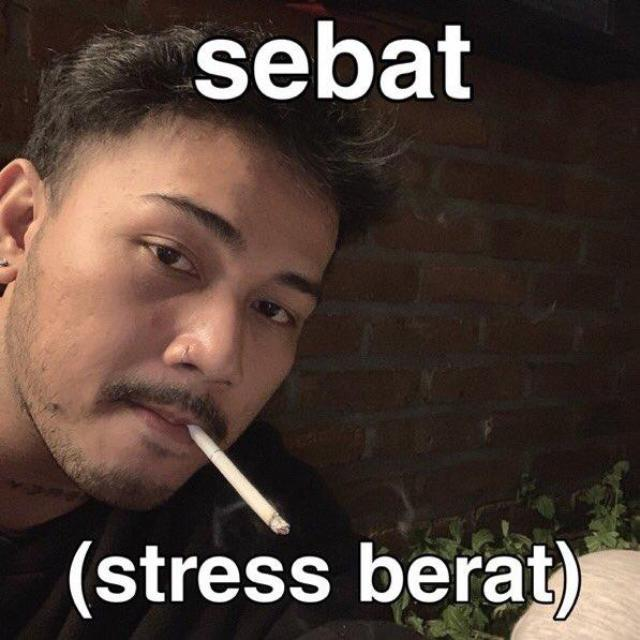rokok: (184, 408, 292, 542)
